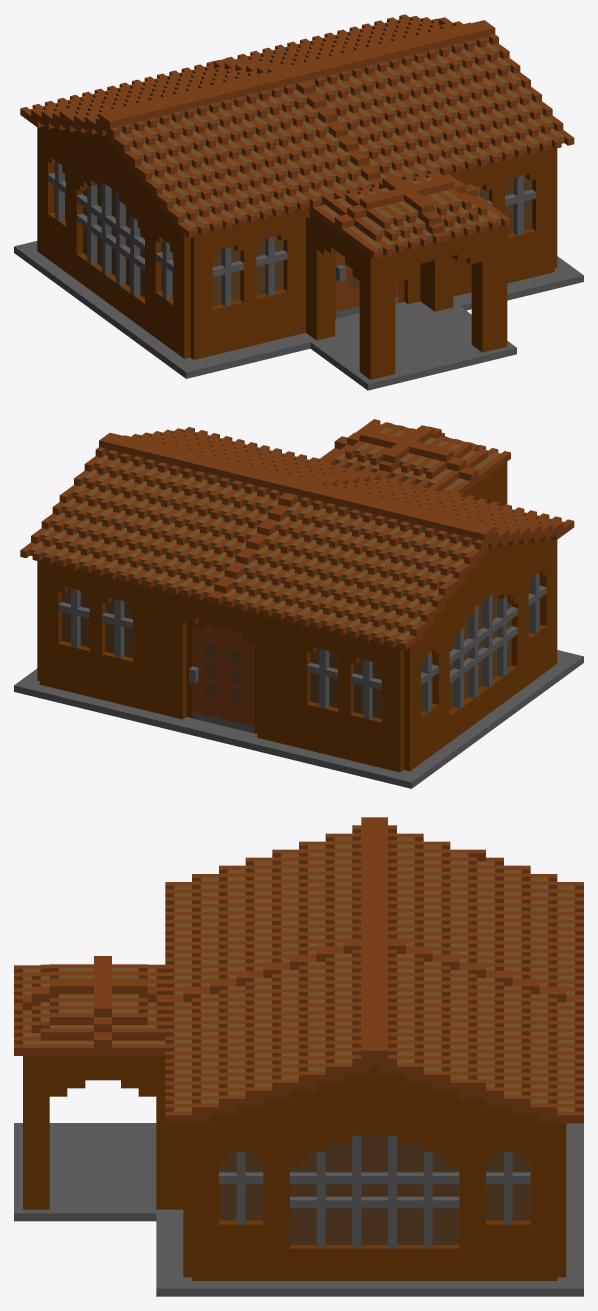
The model's file is bld_house5b.obj.
3 renders of one model, top to bottom at view 1: azimuth 30°, elevation 25°; view 2: azimuth 150°, elevation 25°; view 3: azimuth 270°, elevation 25°, orthographic. The views are drawn at different scales.
Bounding box in the file's own units: 64 × 30 × 64.
